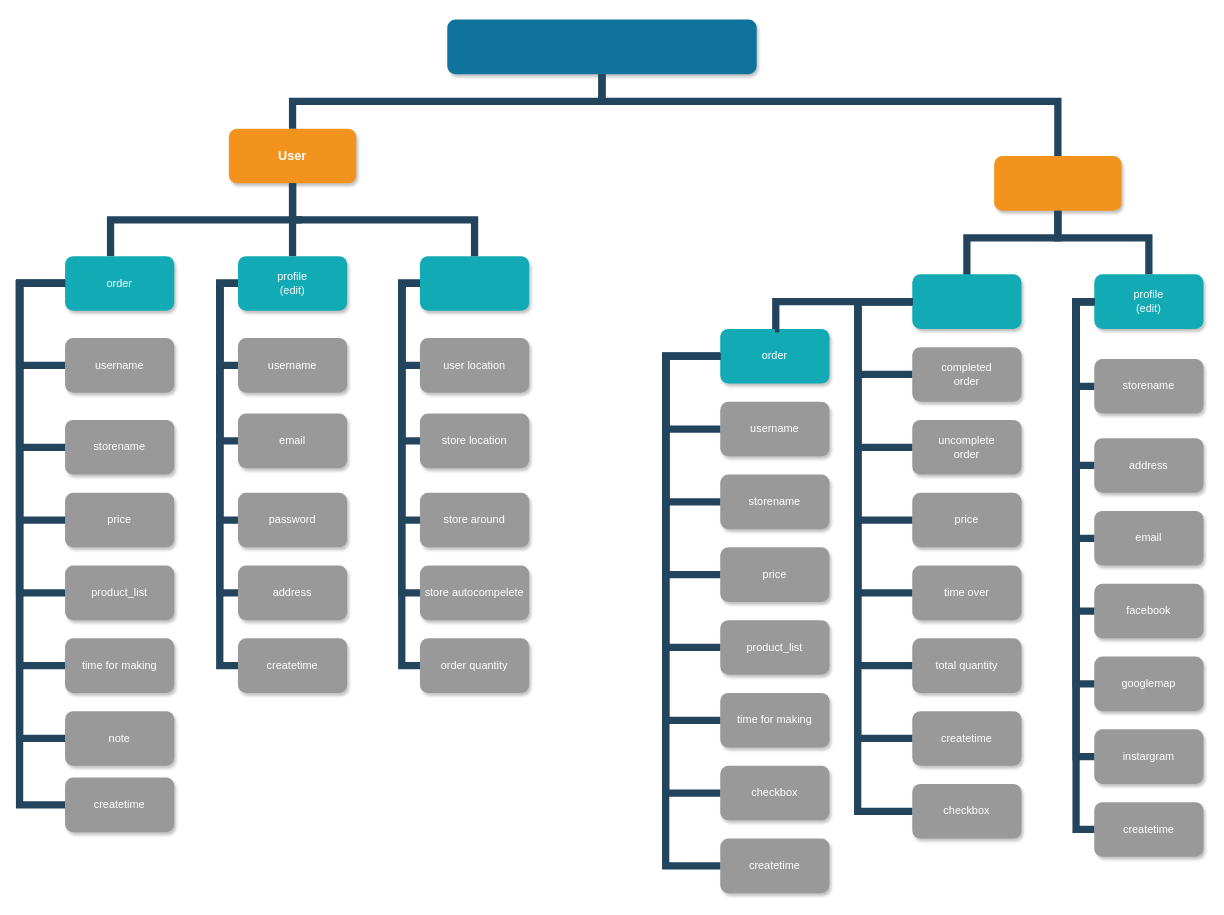
Image size: 1224x915. Some labels were removed from this diagram. Each missing label, with the centre of its shape:
board: [967,302]
map: [475,284]
NoCallEat: [602,47]
Store: [1058,184]
